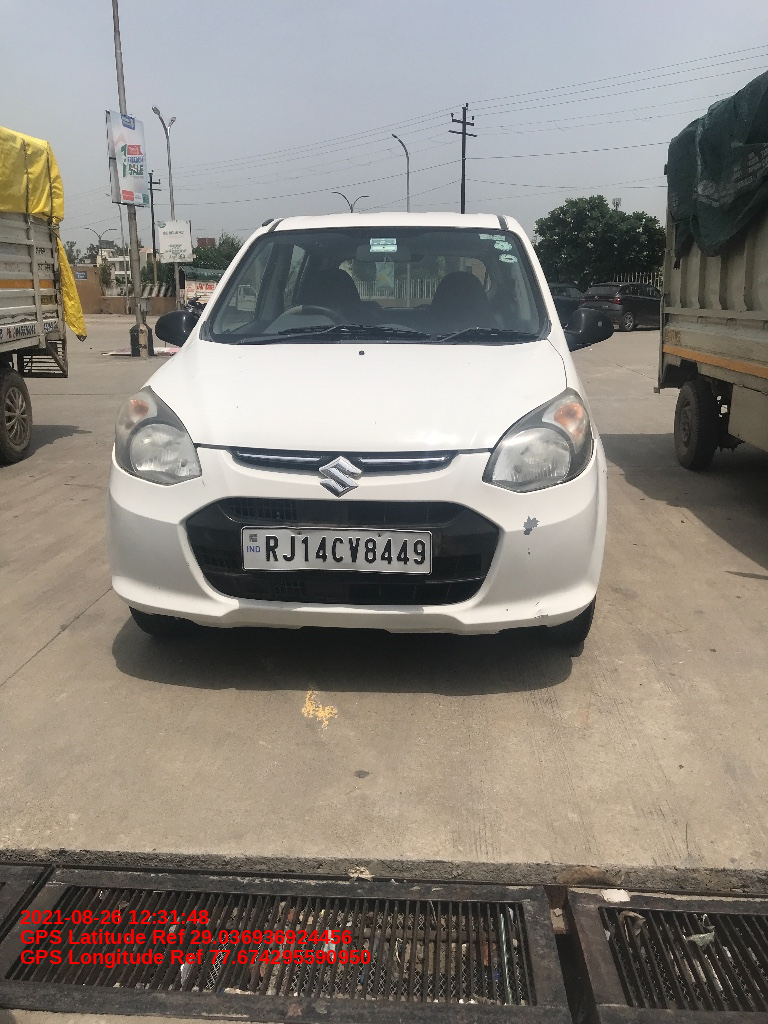Scratched: (516, 513, 546, 541), (526, 598, 550, 622), (521, 546, 538, 562), (501, 603, 516, 618), (197, 477, 210, 490)
